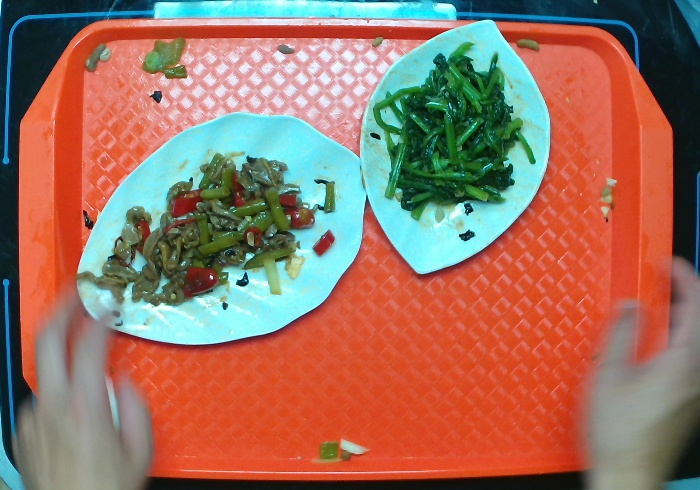RJxy-Bai_Ye_Pan: (59, 111, 382, 347)
RJxy-Da_Du_Pan: (350, 17, 559, 279)
